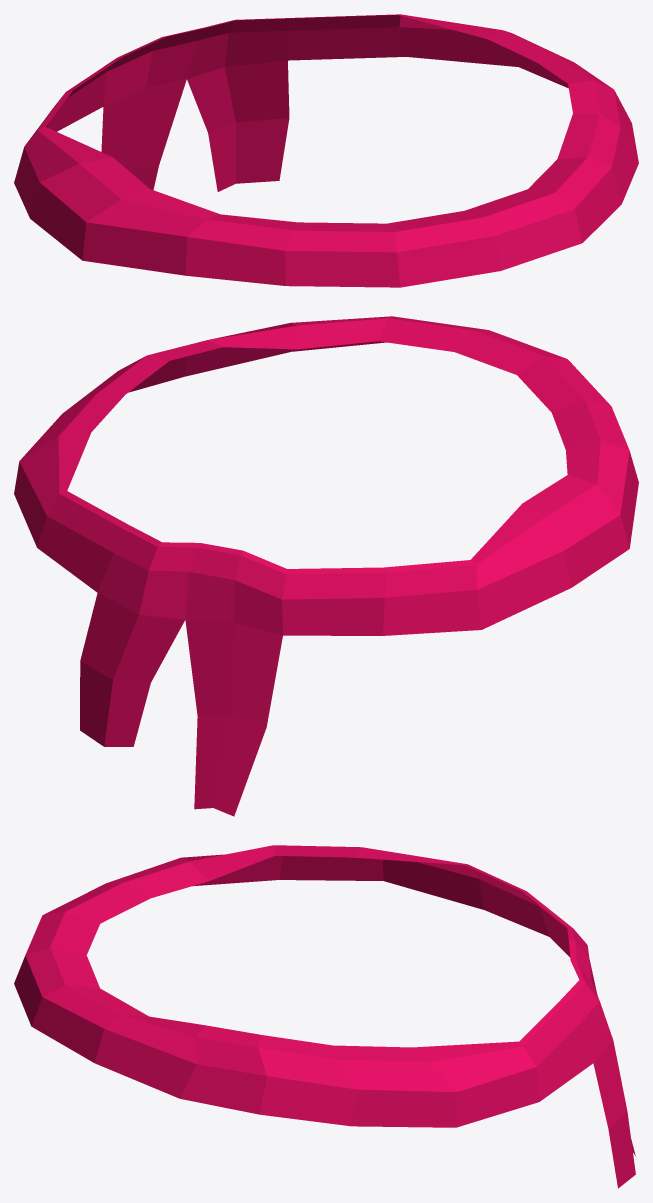
Rendered from model_ninja.gltf.
3 renders of one model, top to bottom at view 1: azimuth 30°, elevation 25°; view 2: azimuth 150°, elevation 25°; view 3: azimuth 270°, elevation 25°, orthographic. The views are drawn at different scales.
Parts seen in each view (by area): view 1: model_ninja; view 2: model_ninja; view 3: model_ninja.
Part boxes in pixels (<box>): model_ninja: <box>14,14,638,287</box>; model_ninja: <box>14,316,638,816</box>; model_ninja: <box>14,845,635,1188</box>.
Size of the model in its own units: 0.5953 by 0.2651 by 0.6301.
